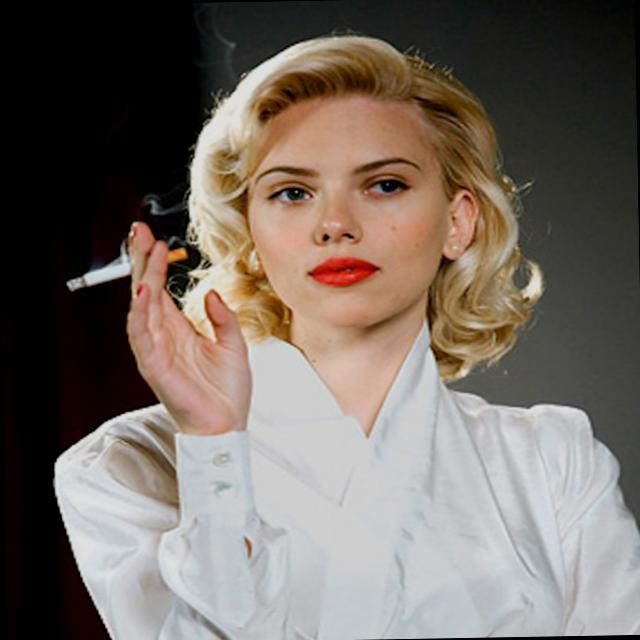smoke: (63, 245, 189, 295)
